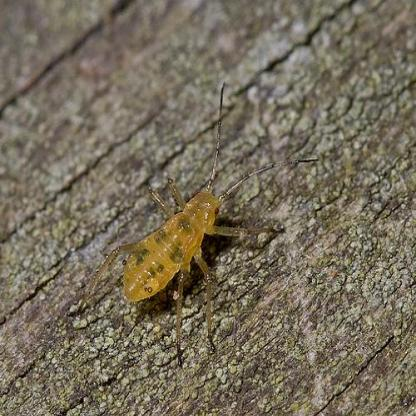aphid: (68, 126, 285, 330)
